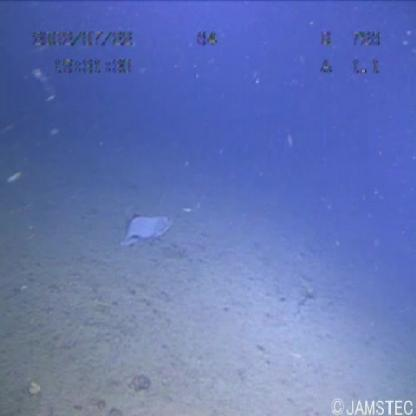Rác: (117, 201, 195, 255)
